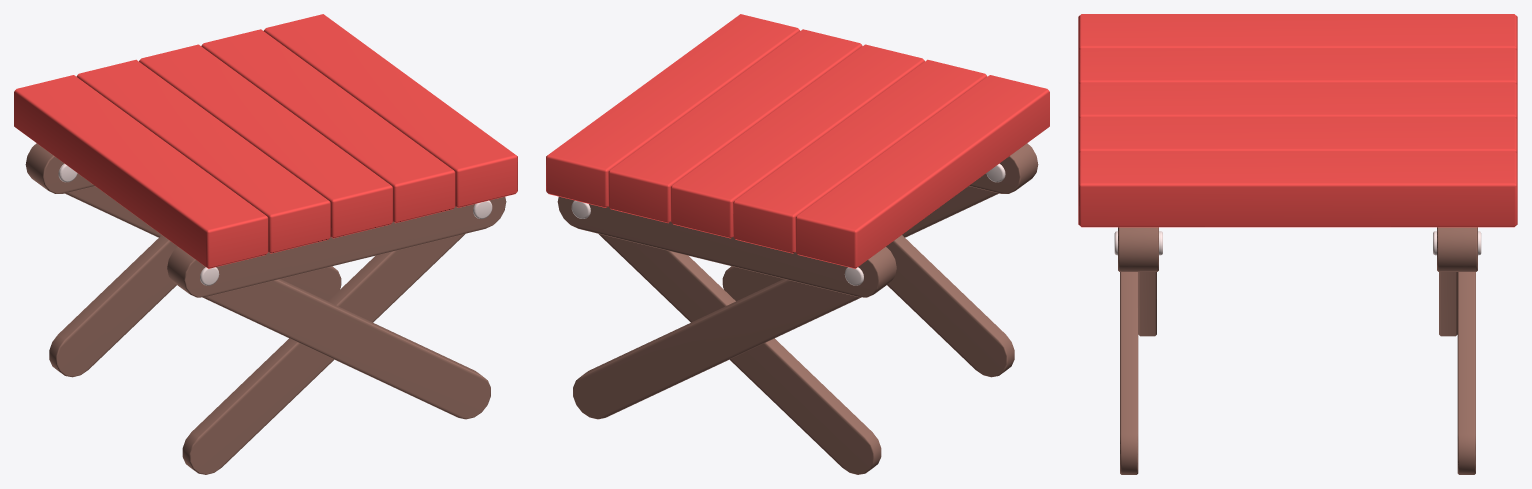
File: Town_13_Table_1.glb
3 views of the same model, side by side, from view 1: azimuth 30°, elevation 25°; view 2: azimuth 150°, elevation 25°; view 3: azimuth 270°, elevation 25° (orthographic). The views are drawn at different scales.
Parts seen in each view (by area): view 1: Town_13_Table_1; view 2: Town_13_Table_1; view 3: Town_13_Table_1.
Boxes of the visible parts, x1=… form: Town_13_Table_1: x1=14, y1=14, x2=517, y2=474; Town_13_Table_1: x1=546, y1=14, x2=1049, y2=474; Town_13_Table_1: x1=1078, y1=14, x2=1517, y2=474.
Bounding box in the file's own units: 0.9862 × 0.7898 × 1.03.
Materials: 1 (1 with a texture image).
